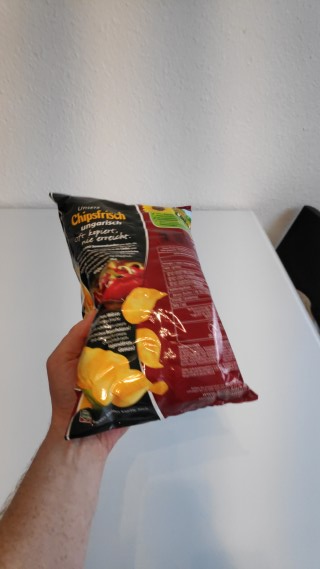chipsfrisch: (48, 190, 259, 441)
